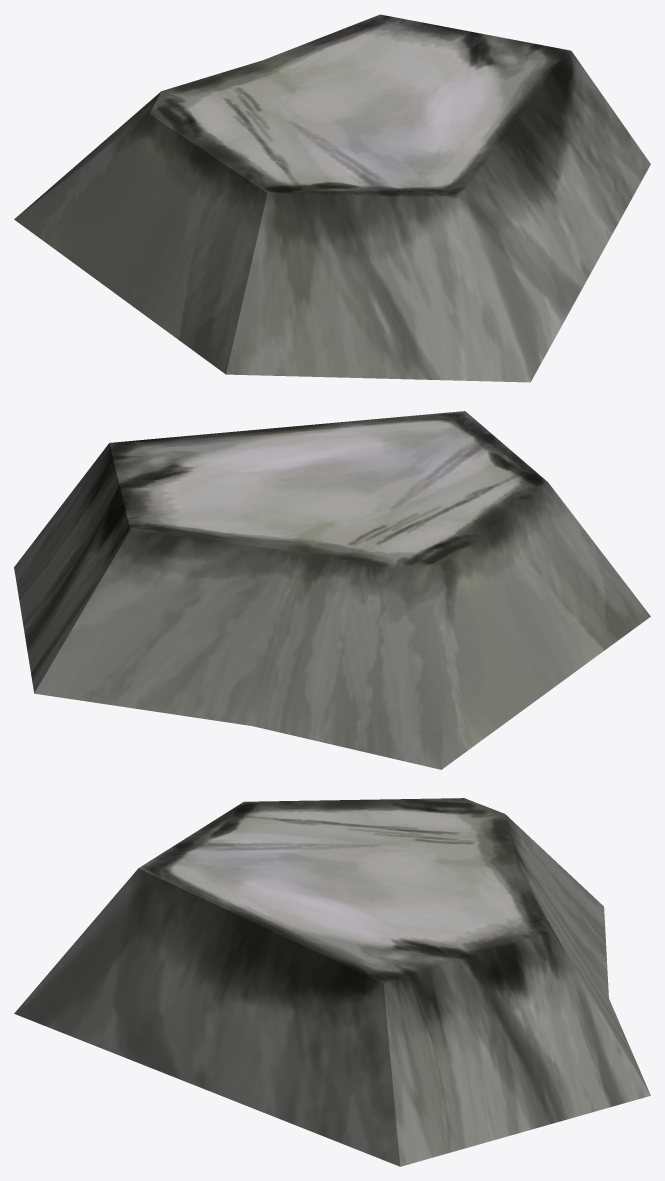
File: DEC_StepStoneB.FBX
3 renders of one model, top to bottom at view 1: azimuth 30°, elevation 25°; view 2: azimuth 150°, elevation 25°; view 3: azimuth 270°, elevation 25°, orthographic.
Visible parts, largest first — view 1: DEC_StoneStepB; view 2: DEC_StoneStepB; view 3: DEC_StoneStepB.
Boxes of the visible parts, box(x1,y1,x2,y2) form: DEC_StoneStepB: box(14, 14, 650, 382); DEC_StoneStepB: box(14, 411, 650, 769); DEC_StoneStepB: box(14, 798, 650, 1166).
Size of the model in its own units: 82.11 by 20.72 by 85.05.
